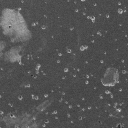corrosion: (1, 8, 34, 45), (100, 65, 121, 87), (3, 48, 27, 64), (79, 44, 89, 52), (116, 7, 125, 15), (89, 14, 96, 22), (17, 94, 24, 101), (51, 109, 58, 116), (35, 64, 41, 72), (31, 94, 39, 100), (65, 48, 72, 54), (67, 103, 73, 110), (96, 30, 102, 37), (68, 25, 75, 31), (63, 67, 69, 73), (74, 8, 80, 14), (43, 118, 49, 124), (104, 90, 111, 95), (116, 106, 121, 113), (24, 83, 31, 88), (56, 52, 63, 57), (105, 13, 110, 19), (87, 105, 92, 111), (41, 24, 46, 30), (99, 59, 105, 64), (122, 70, 128, 75), (56, 59, 61, 64), (84, 81, 89, 86), (72, 73, 77, 78), (76, 103, 81, 108), (66, 113, 71, 118), (99, 95, 103, 100), (84, 60, 89, 64), (44, 94, 48, 98), (84, 75, 89, 78), (81, 97, 84, 101)
